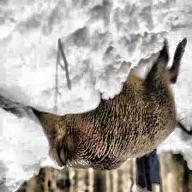boar: (33, 47, 192, 171)
